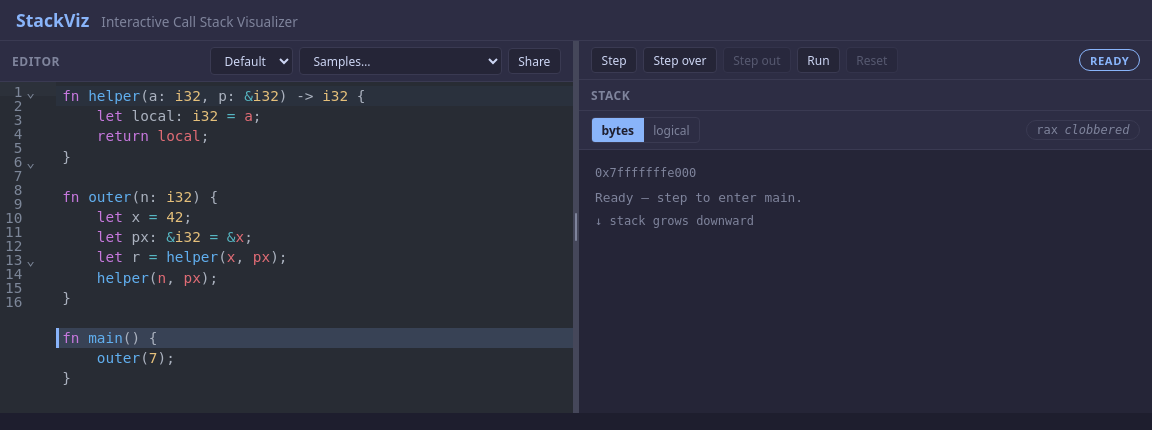
samples and sharing › loads a sample from the dropdown
Select "Stack overflow demo" in the dropdown named "Load sample program". click: (400, 61)
box: 299,47 -> 502,75
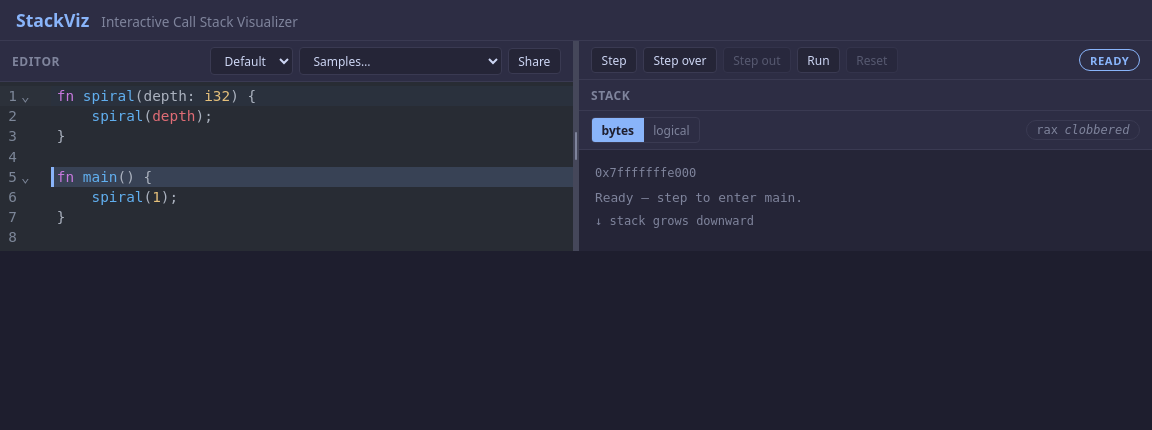
Check: the field with class "cm-content" shows "spiral", box 51,82 -> 573,251
